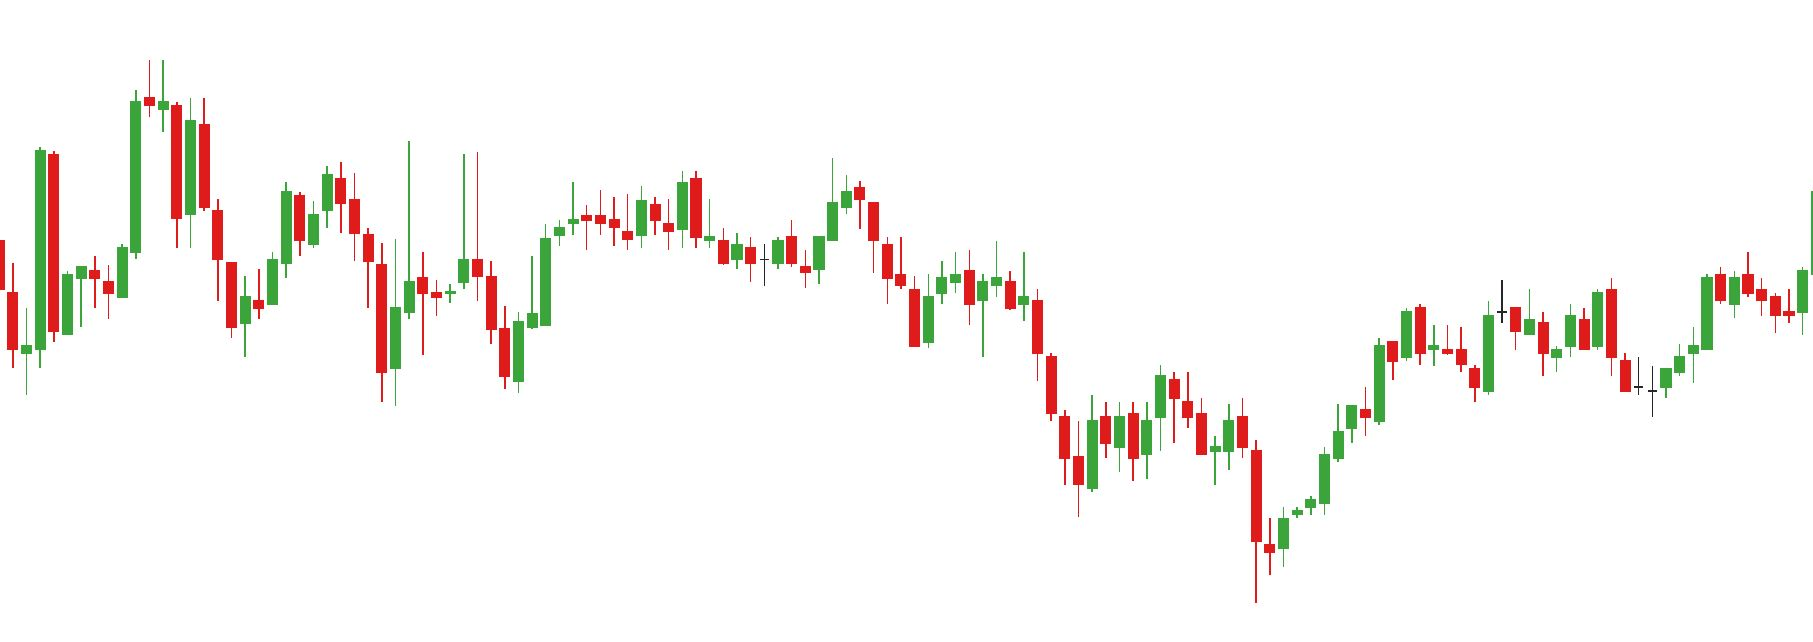buy: (91, 175, 252, 360), (415, 224, 524, 394), (1537, 323, 1672, 419)
sell: (674, 154, 869, 254)
